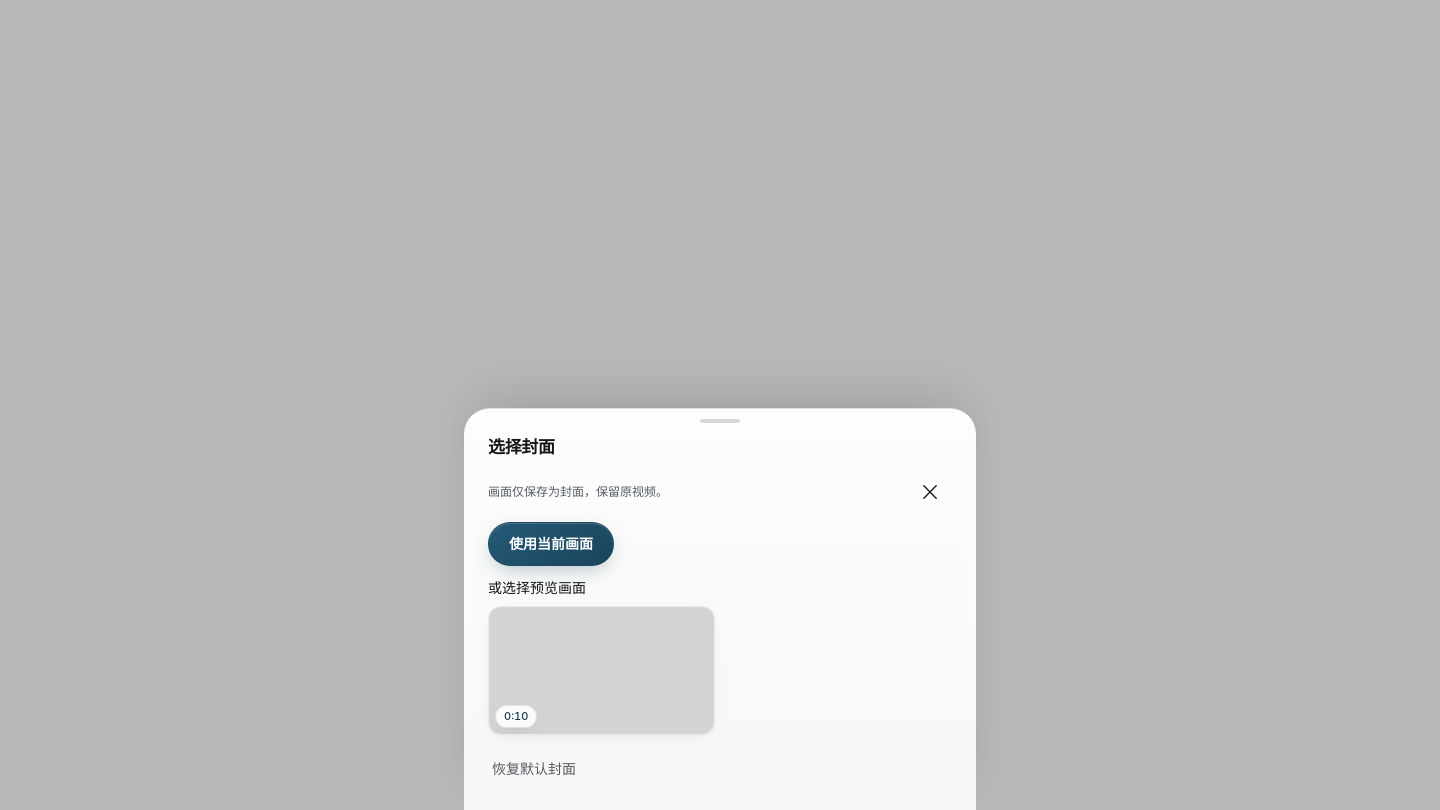
Test: keeps errors visible and allows preview selection after a canvas security error
Click the button with aria-label "使用当前画面".
click(551, 544)  # box [488, 522, 614, 566]
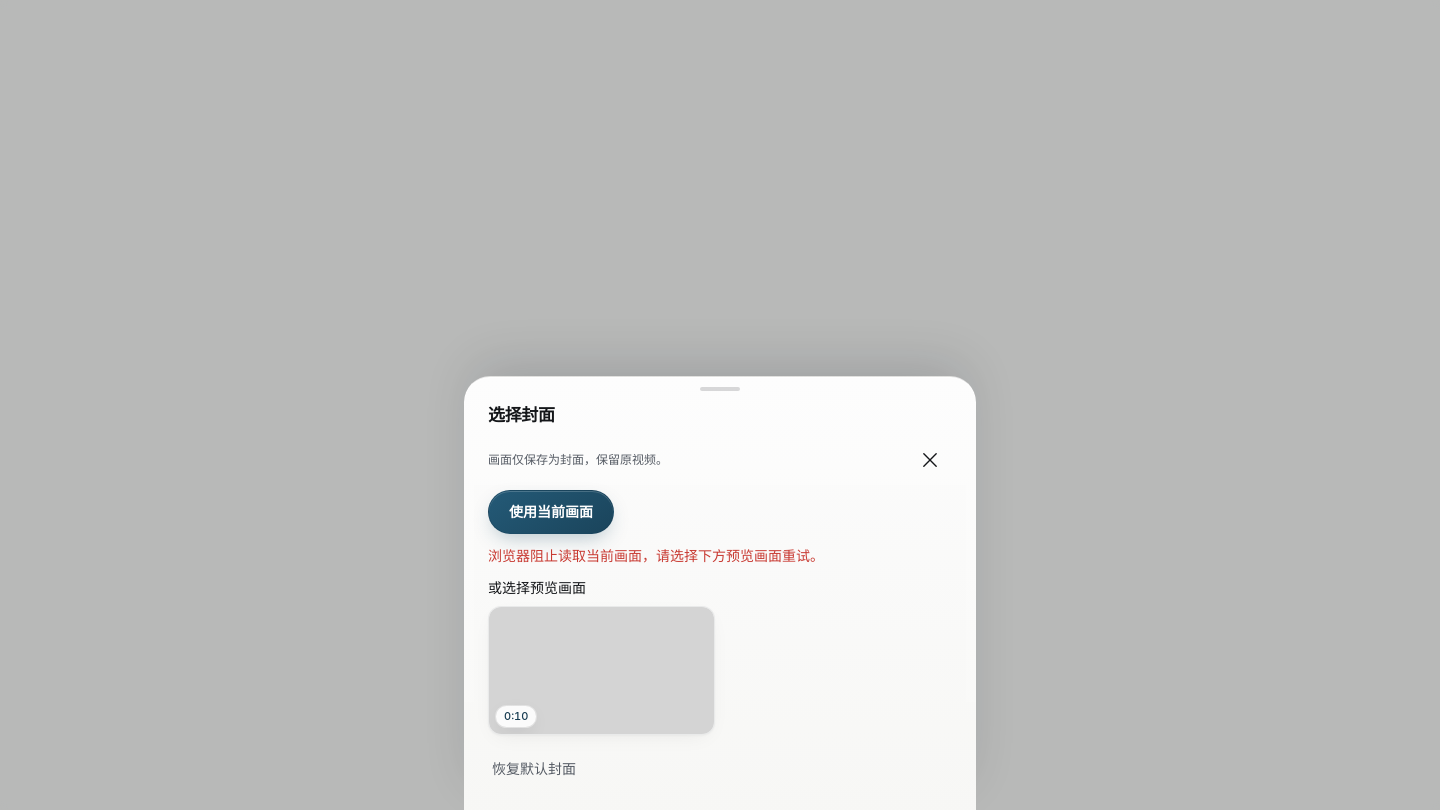
Now the message "浏览器阻止读取当前画面，请选择下方预览画面重试。" is shown, box [488, 547, 824, 564]
Click the button with aria-label "恢复默认封面".
click(534, 768)  # box [476, 747, 964, 791]
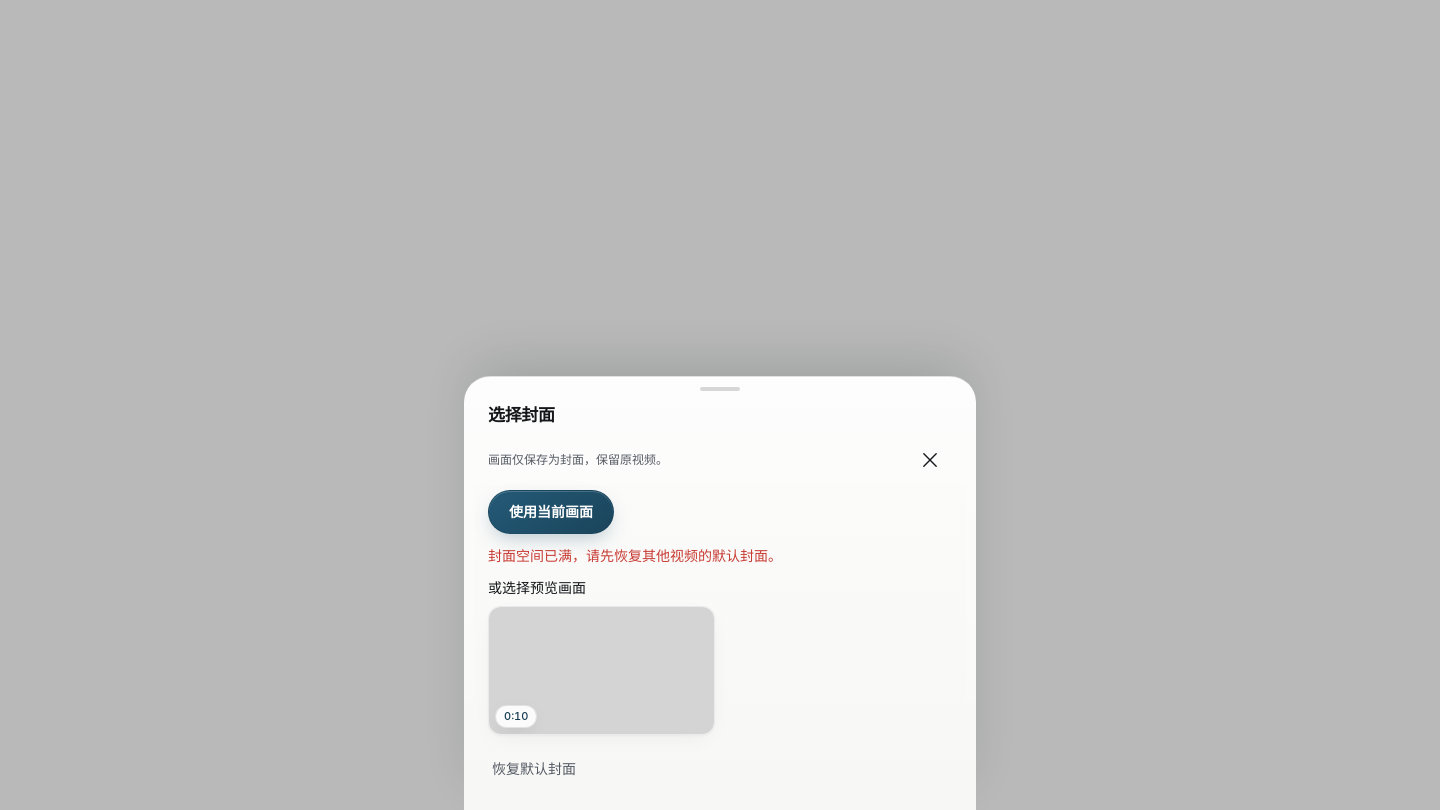
Now the message "封面空间已满，请先恢复其他视频的默认封面。" is shown, box [488, 547, 782, 564]
